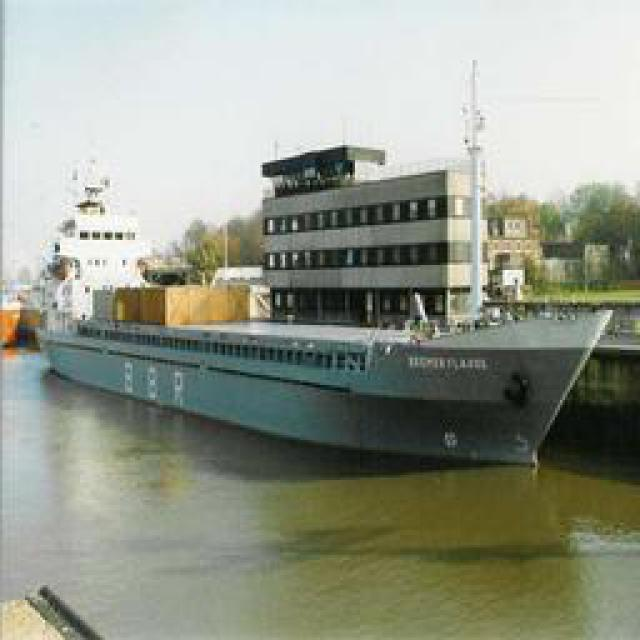Ship: (34, 278, 619, 473)
